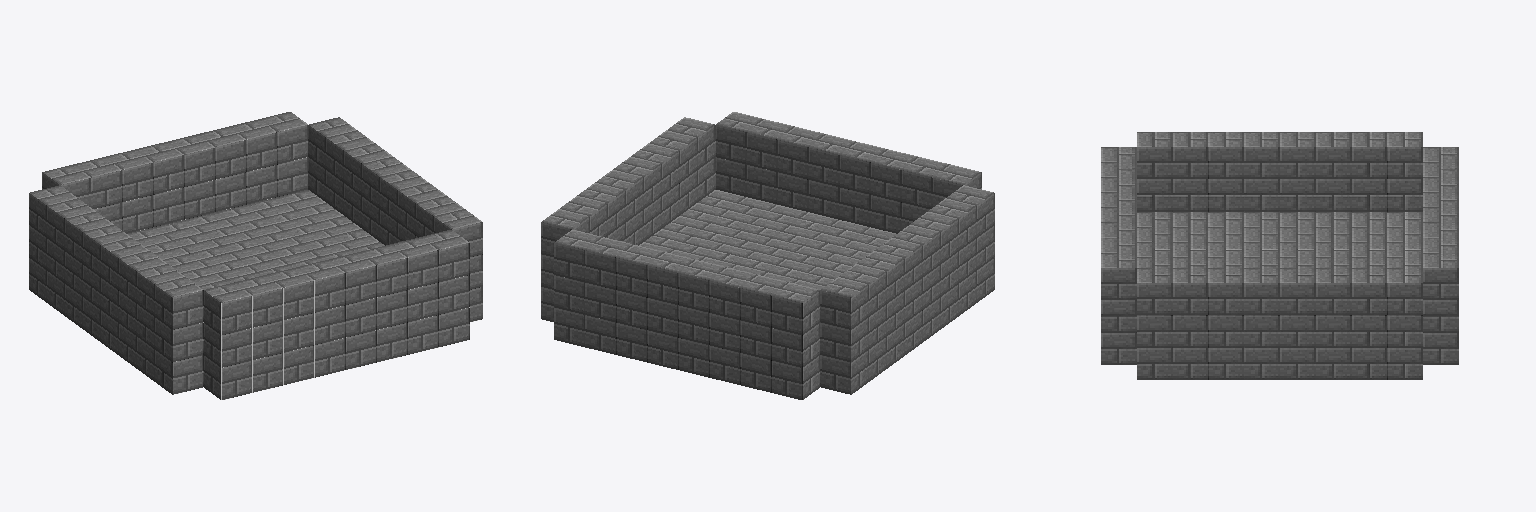
3 views of the same model, side by side, from view 1: azimuth 30°, elevation 25°; view 2: azimuth 150°, elevation 25°; view 3: azimuth 270°, elevation 25° (orthographic).
Visible parts, largest first — view 1: Cube.034; view 2: Cube.034; view 3: Cube.034.
Part boxes in pixels (left/top/right/bottom): Cube.034: left=29, top=112, right=482, bottom=399; Cube.034: left=541, top=112, right=994, bottom=399; Cube.034: left=1101, top=132, right=1458, bottom=379.
Size of the model in its own units: 20 by 6 by 20.
160 materials, 1 textured.